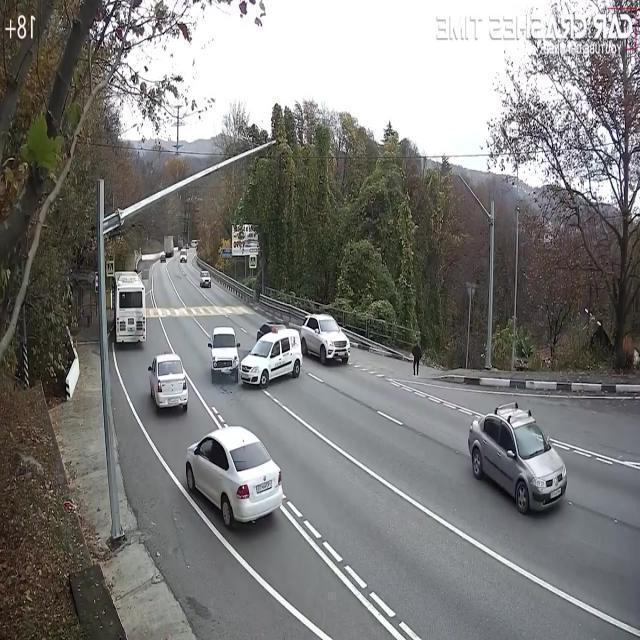accident: (206, 313, 306, 395)
